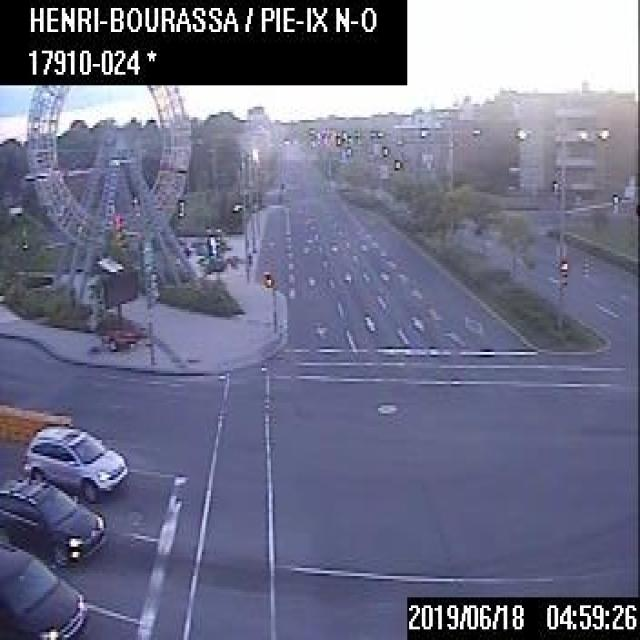construction: (95, 256, 138, 349)
vehicle: (0, 476, 104, 569), (19, 424, 126, 501), (0, 546, 85, 637)
